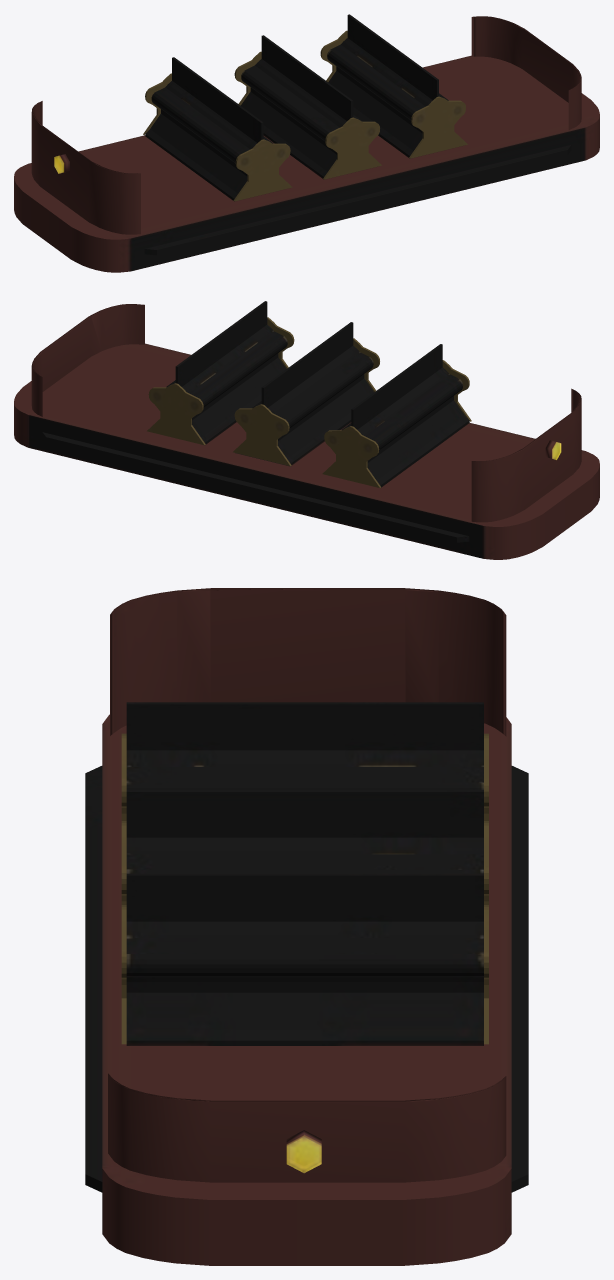
File: trolley.glb
3 renders of one model, top to bottom at view 1: azimuth 30°, elevation 25°; view 2: azimuth 150°, elevation 25°; view 3: azimuth 270°, elevation 25°, orthographic. The views are drawn at different scales.
Parts seen in each view (by area): view 1: g; view 2: g; view 3: g.
Boxes of the visible parts, <box> form: g: <box>14,14,599,272</box>; g: <box>14,301,599,559</box>; g: <box>85,588,528,1265</box>.
Bounding box in the file's own units: 3.06 × 0.6225 × 1.13.
Materials: 1 (1 with a texture image).
